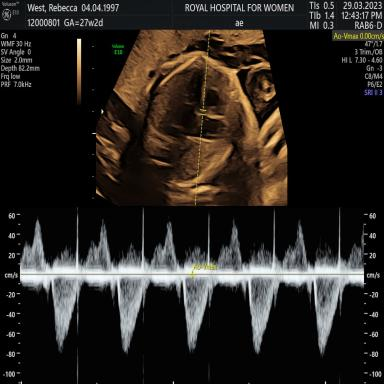Ultrasound-Waves: (26, 210, 361, 384)
